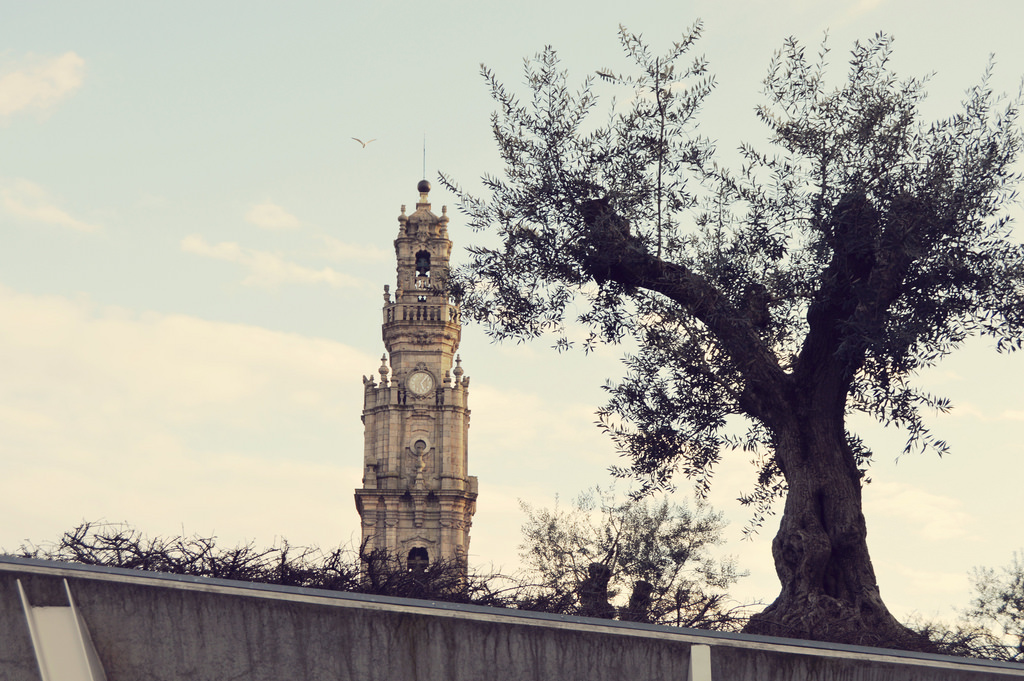clerigos: (354, 144, 479, 599)
